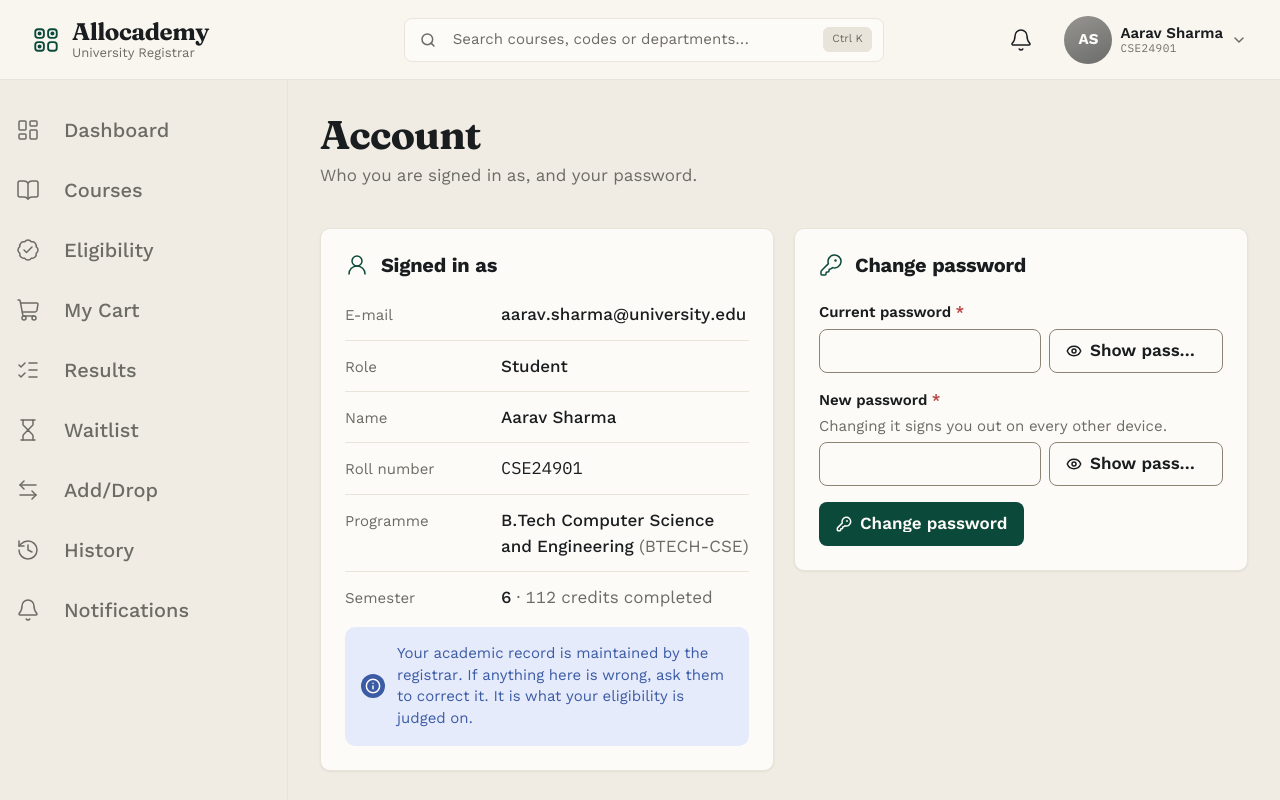
Test case: AccountPage › says this device stays signed in while the others do not
Expected: the heading "Account" is shown, [320,110,480,159]
In the password field labelled "Current password": x=930, y=351 [819,329,1041,373], type "currentpassword1"
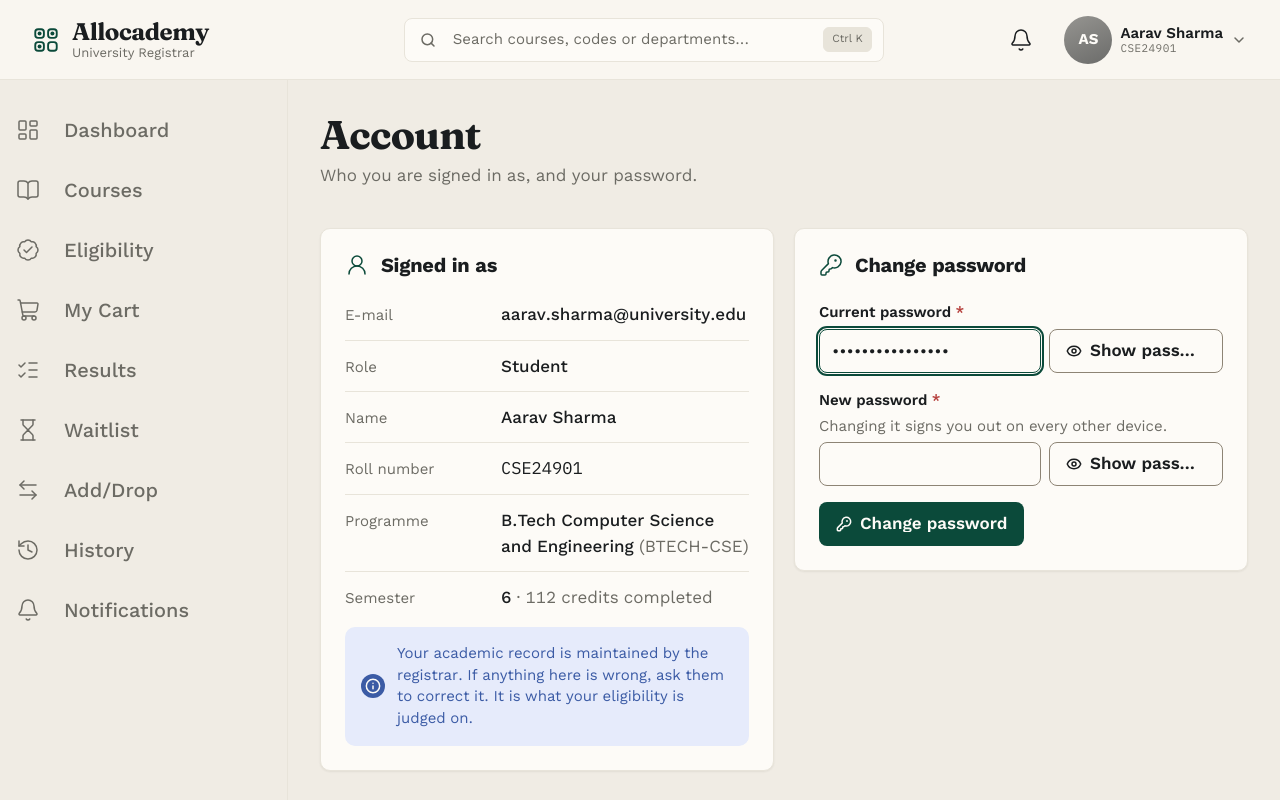
In the password field labelled "New password": x=930, y=464 [819,442,1041,486], type "correcthorsebatterystaple"
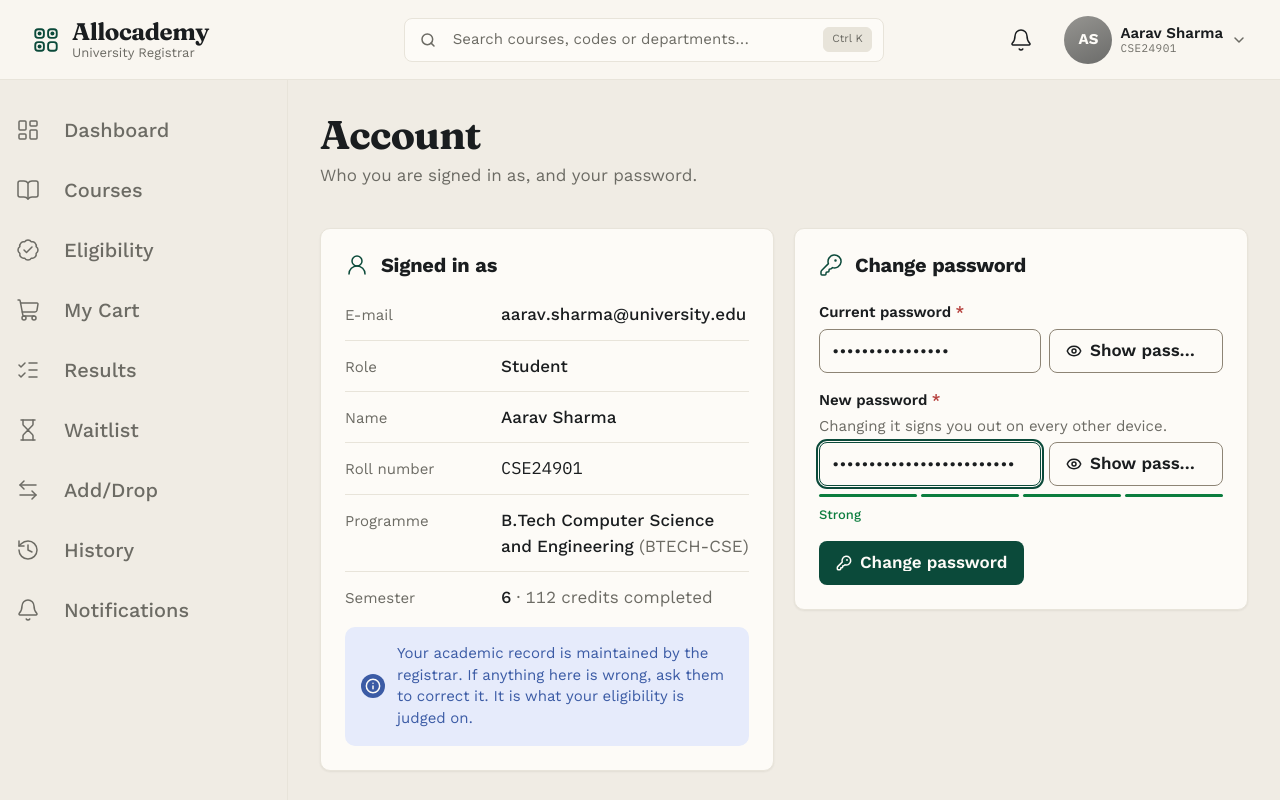
Click the button "Change password": x=922, y=563 [819,541,1024,585]
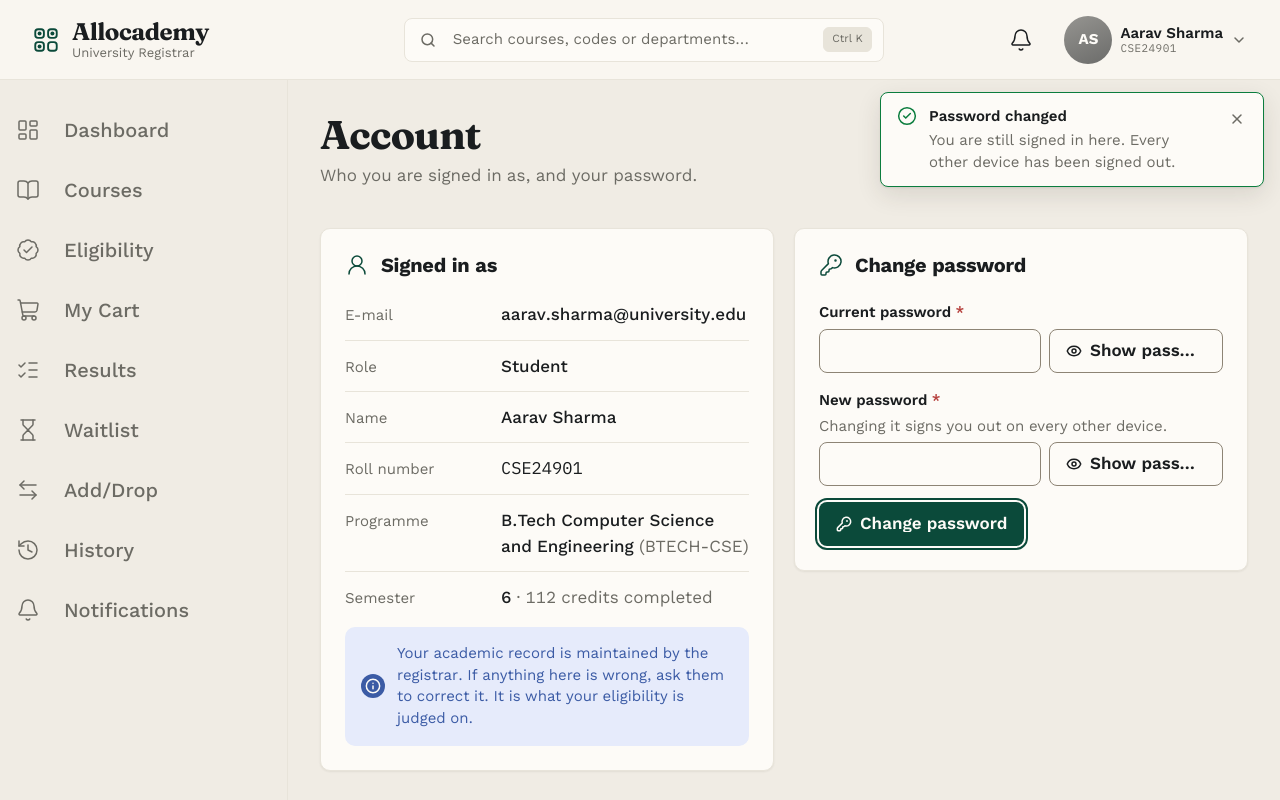
Result: the text "Password changed" is shown at [929,107,1067,125]
Result: the text "still signed in here" is shown at [929,131,1176,171]
